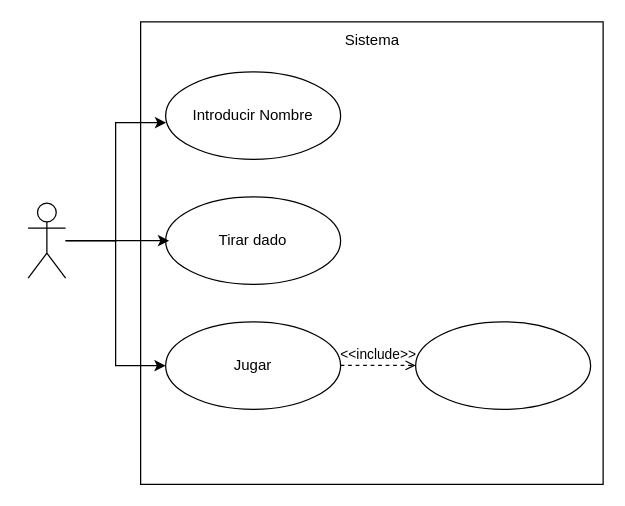
Image size: 625x506. Some labels were removed from this diagram. Here are the shapes that lost their labels. From the top down, the box of each, then its label:
(27, 202, 66, 278): Usuario
(414, 321, 591, 409): Logro de record
